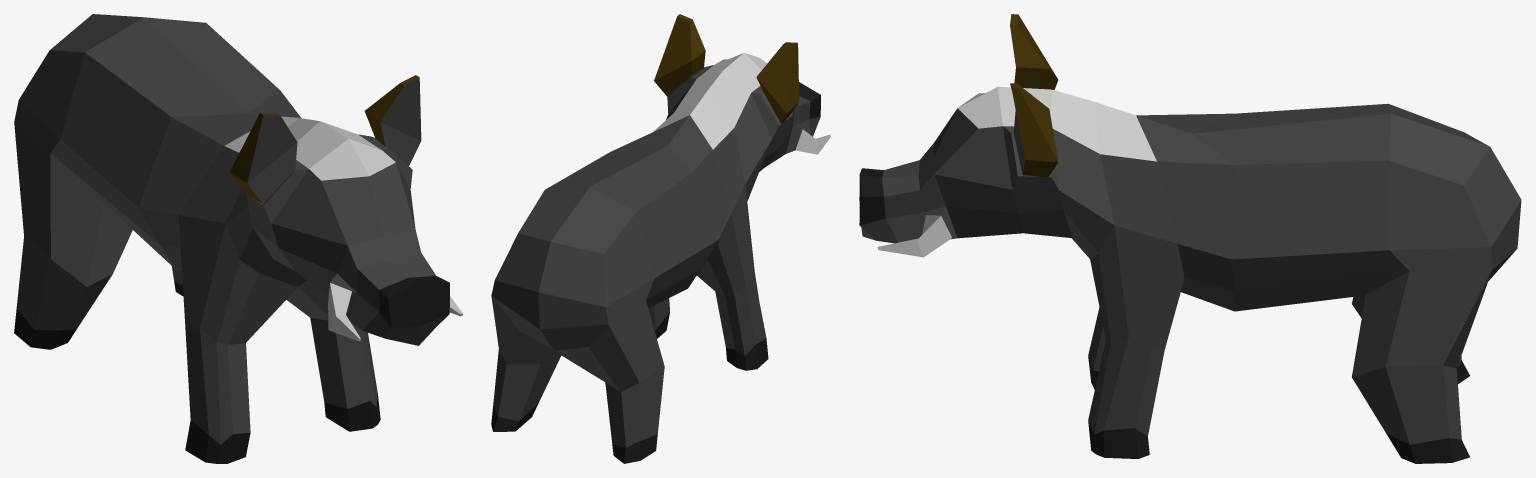
File: Boar.fbx
3 renders of one model, left to right at view 1: azimuth 30°, elevation 25°; view 2: azimuth 150°, elevation 25°; view 3: azimuth 270°, elevation 25°, orthographic. The views are drawn at different scales.
Visible parts, largest first — view 1: Boar; view 2: Boar; view 3: Boar.
Part boxes in pixels (left/top/right/bottom): Boar: left=14, top=14, right=462, bottom=463; Boar: left=491, top=14, right=830, bottom=463; Boar: left=859, top=14, right=1521, bottom=463.
Bounding box in the file's own units: 0.5374 × 0.97 × 1.59.
